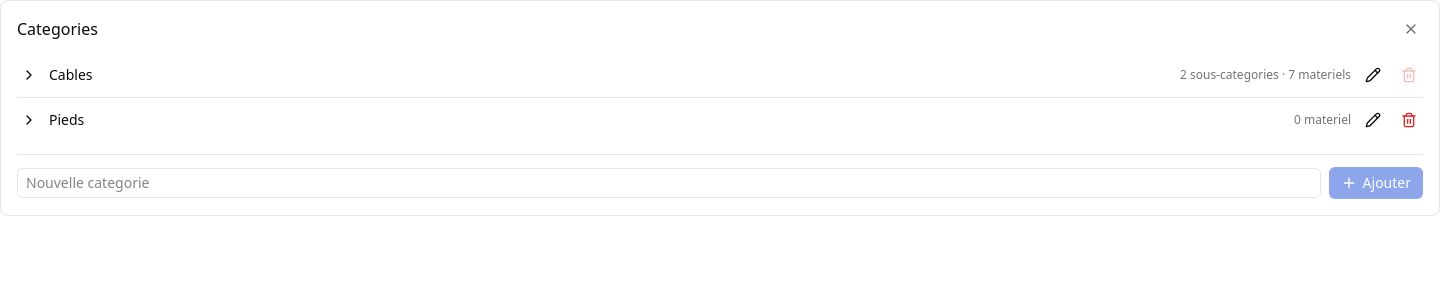
Scenario: CategoriesPanel › surfaces the server refusal when a delete is rejected
Expected: the text "Cables" is shown, [49,65,92,84]
Click the button named "Supprimer Pieds": (1409, 120) [1395,106,1423,134]
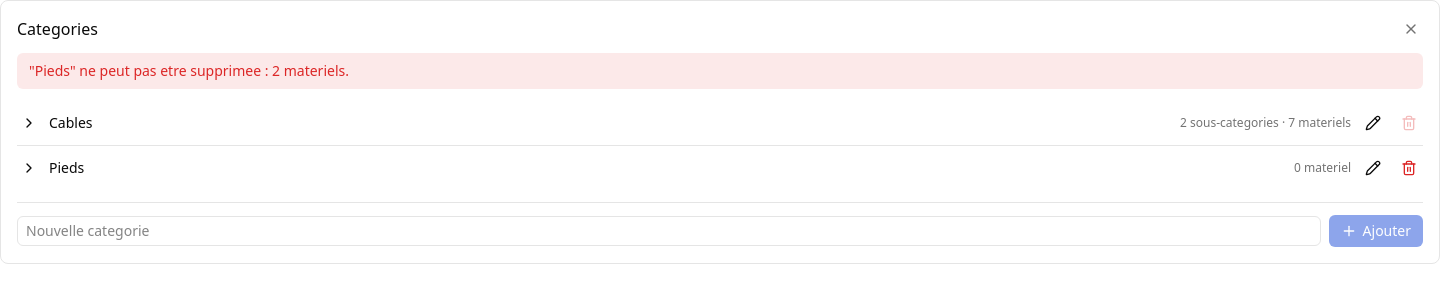
Result: the text "\"Pieds\" ne peut pas etre supprimee : 2 materiels." is shown at [17,53,1423,89]
